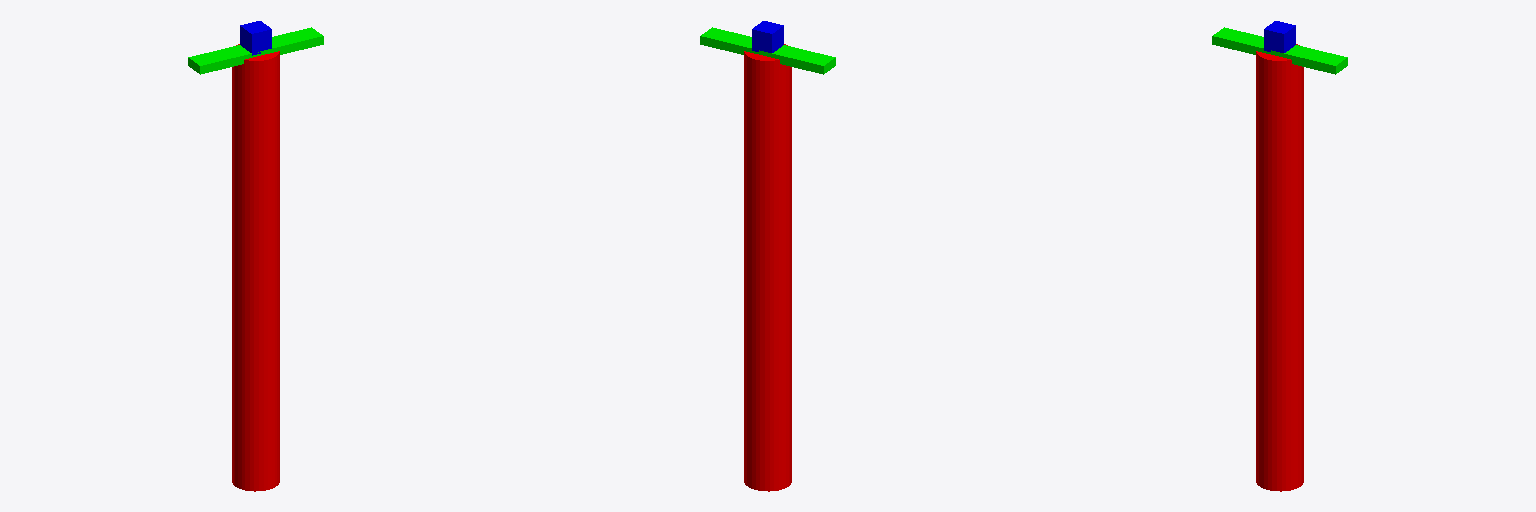
URDF robot description (stand_with_glasses):
<?xml version="1.0"?>
<robot name="stand_with_glasses">
  <!-- Base -->
  <link name="base_link">
    <visual>
      <geometry>
        <cylinder radius="0.05" length="1.0"/>
      </geometry>
      <origin xyz="0 0 0.5" rpy="0 0 0"/> <!-- Half of 1.0 so it's grounded -->
      <material name="red">
        <color rgba="1 0 0 1"/>
      </material>
    </visual>
  </link>

  <!-- Glasses holder -->
  <link name="glasses_holder">
    <visual>
      <geometry>
        <box size="0.3 0.05 0.02"/>
      </geometry>
      <origin xyz="0 0 0" rpy="0 0 0"/>
      <material name="green">
        <color rgba="0 1 0 1"/>
      </material>
    </visual>
  </link>

  <!-- Camera link on top -->
  <link name="camera_link">
    <visual>
      <geometry>
        <box size="0.05 0.05 0.05"/>
      </geometry>
      <origin xyz="0 0 0" rpy="0 0 0"/>
      <material name="blue">
        <color rgba="0 0 1 1"/>
      </material>
    </visual>
  </link>

  <!-- Joint from base to glasses holder -->
  <joint name="rotate_joint" type="revolute">
    <parent link="base_link"/>
    <child link="glasses_holder"/>
    <origin xyz="0 0 1.0" rpy="0 0 0"/> <!-- Top of 1.0m cylinder -->
    <axis xyz="0 0 1"/>
    <limit lower="-3.14" upper="3.14" effort="1" velocity="1"/>
  </joint>

  <!-- Fixed joint from glasses to camera -->
  <joint name="camera_fixed" type="fixed">
    <parent link="glasses_holder"/>
    <child link="camera_link"/>
    <origin xyz="0 0 0.03" rpy="0 0 1.5708"/>
  </joint>
</robot>

--- Facts derived from the render (not from the file) ---
The picture shows the robot from 3 angles, left to right: view 1: azimuth 30°, elevation 25°; view 2: azimuth 150°, elevation 25°; view 3: azimuth 330°, elevation 25°; orthographic projection.
Model stand_with_glasses with 3 links and 2 joints (1 revolute, 1 fixed), rooted at base_link, posed all joints at 0.
Visible links, largest first — view 1: base_link, glasses_holder, camera_link; view 2: base_link, glasses_holder, camera_link; view 3: base_link, glasses_holder, camera_link.
Link boxes in pixels (x1=…): base_link: x1=232, y1=44, x2=279, y2=491; glasses_holder: x1=188, y1=27, x2=323, y2=74; camera_link: x1=240, y1=21, x2=271, y2=55; base_link: x1=744, y1=44, x2=791, y2=491; glasses_holder: x1=700, y1=27, x2=835, y2=74; camera_link: x1=752, y1=21, x2=783, y2=52; base_link: x1=1256, y1=44, x2=1303, y2=491; glasses_holder: x1=1212, y1=27, x2=1347, y2=74; camera_link: x1=1264, y1=21, x2=1295, y2=52.
Bounding box of the posed robot: 0.3 × 0.1 × 1.05 m (x, y, z).
Geometry: primitives only (box / cylinder / sphere), no mesh files.